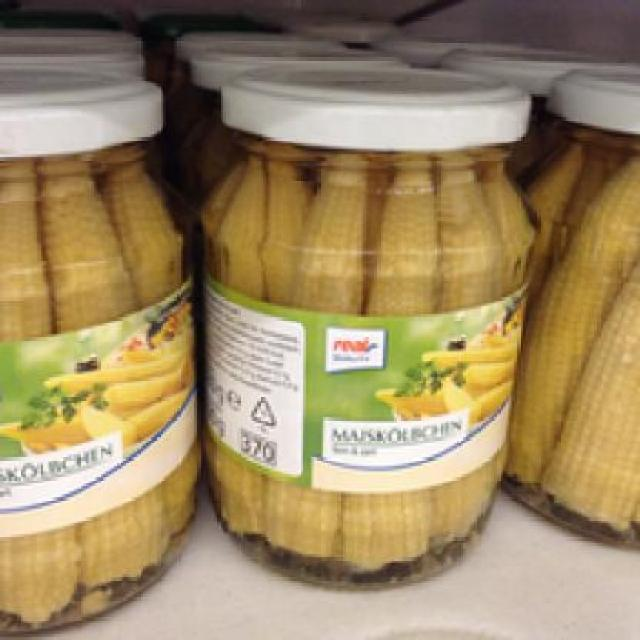Corn: (192, 60, 534, 586), (0, 62, 200, 635), (505, 66, 638, 548)
